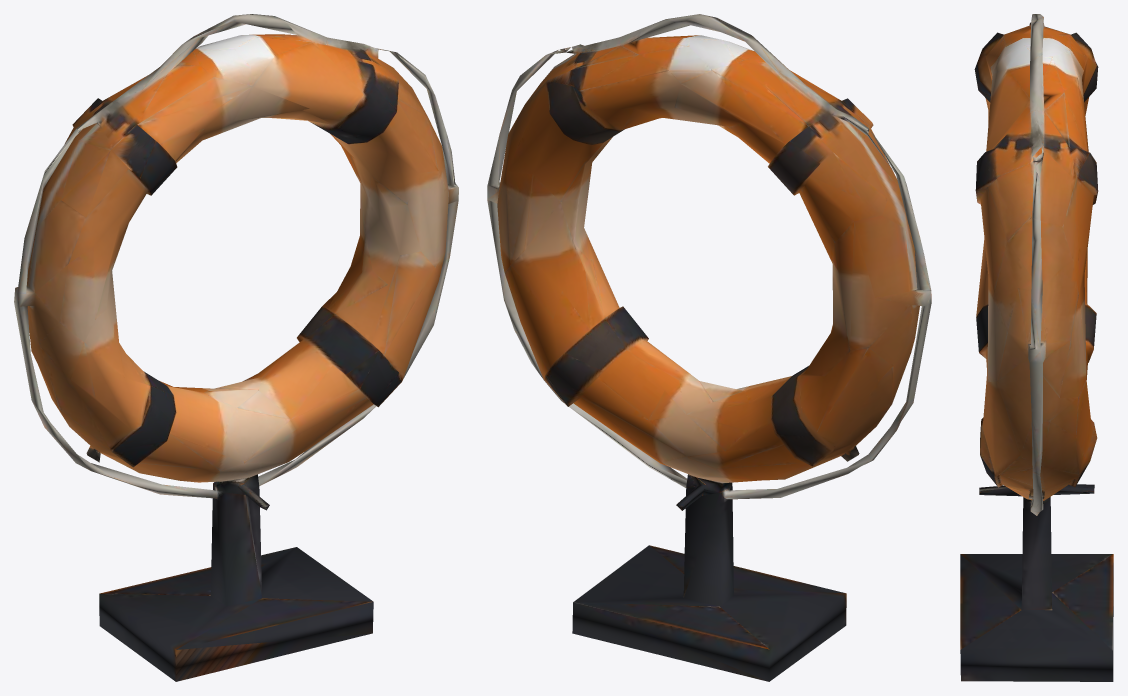
3 renders of one model, left to right at view 1: azimuth 30°, elevation 25°; view 2: azimuth 150°, elevation 25°; view 3: azimuth 270°, elevation 25°, orthographic.
Size of the model in its own units: 1.43 by 1.9 by 0.4309.
1 material, 1 textured.
